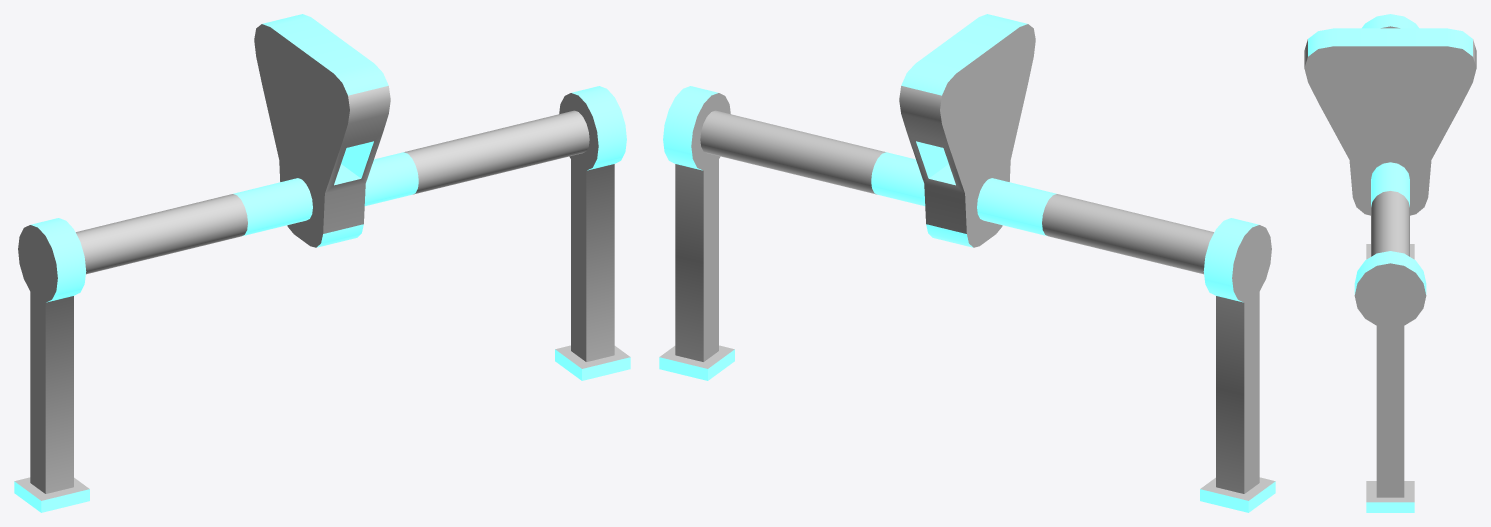
The model's file is Hand (1).fbx.
3 renders of one model, left to right at view 1: azimuth 30°, elevation 25°; view 2: azimuth 150°, elevation 25°; view 3: azimuth 270°, elevation 25°, orthographic. The views are drawn at different scales.
Parts seen in each view (by area): view 1: Cylinder; view 2: Cylinder; view 3: Cylinder.
Boxes of the visible parts, box(x1,y1,x2,y2) form: Cylinder: box(14, 14, 630, 512); Cylinder: box(659, 14, 1275, 512); Cylinder: box(1304, 14, 1476, 512).
Bounding box in the file's own units: 138 × 86.57 × 38.99.
